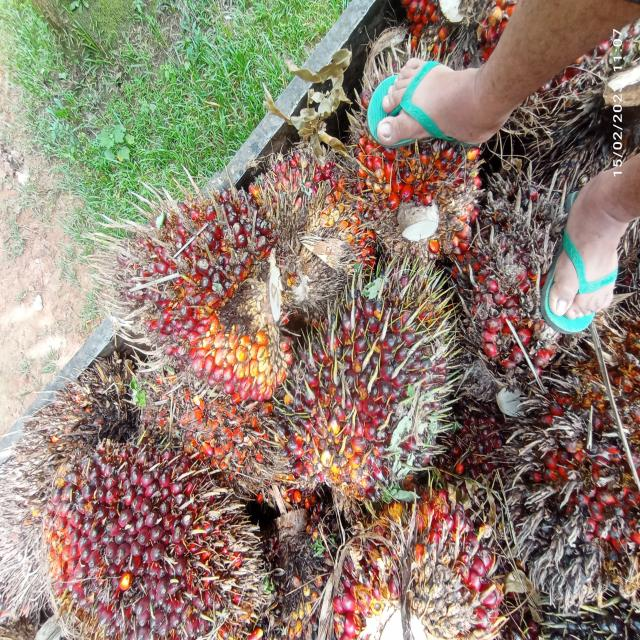fraksi 1: (25, 398, 264, 640), (260, 252, 465, 532)
fraksi 3: (100, 190, 303, 408)
